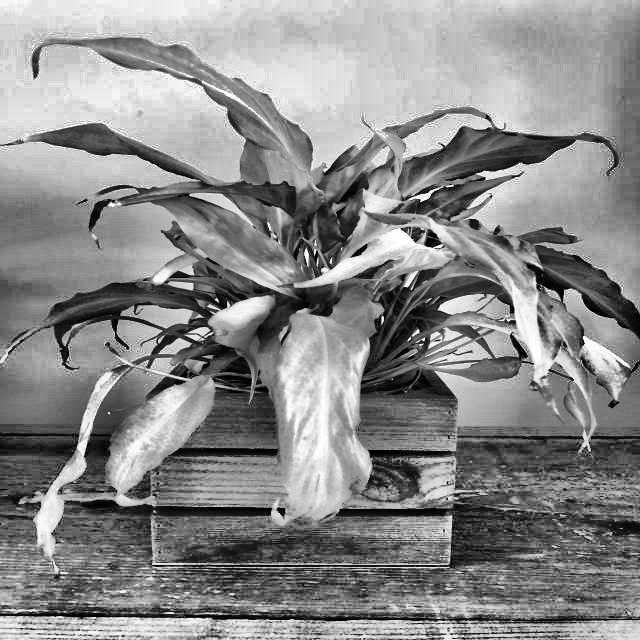plants: (4, 17, 640, 594), (31, 350, 125, 574), (498, 314, 640, 452), (76, 177, 252, 240), (456, 207, 594, 277)
